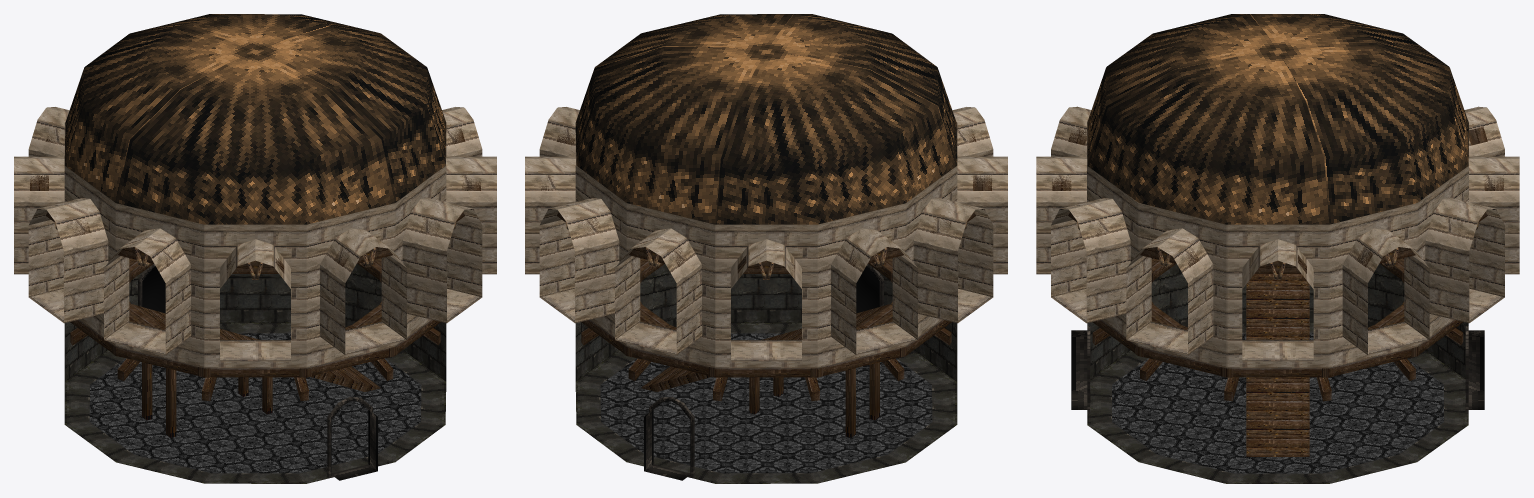
File: clock_tower.fbx
3 views of the same model, side by side, from view 1: azimuth 30°, elevation 25°; view 2: azimuth 150°, elevation 25°; view 3: azimuth 270°, elevation 25° (orthographic).
Parts seen in each view (by area): view 1: Circle, Circle.001, Circle.005, Circle.006, Circle.002, Circle.008, Plane.001, Plane.002, Circle.004, Circle.013, Circle.007, Plane; view 2: Circle, Circle.001, Circle.005, Circle.006, Circle.002, Circle.008, Plane.001, Plane.002, Circle.007, Circle.003, Circle.004, Plane; view 3: Circle, Circle.001, Circle.005, Plane.001, Circle.006, Circle.008, Circle.002, Plane.002, Circle.007, Circle.004, Plane.
Part boxes in pixels (<box>): Circle: <box>64,14,446,224</box>; Circle.001: <box>14,107,496,368</box>; Circle.005: <box>89,333,421,473</box>; Circle.006: <box>64,322,446,483</box>; Circle.002: <box>64,264,446,414</box>; Circle.008: <box>70,216,440,400</box>; Plane.001: <box>131,304,380,437</box>; Plane.002: <box>30,128,480,273</box>; Circle.004: <box>142,266,165,313</box>; Circle.013: <box>327,397,372,478</box>; Circle.007: <box>332,405,377,480</box>; Plane: <box>54,221,456,279</box>; Circle: <box>575,14,957,224</box>; Circle.001: <box>525,107,1007,368</box>; Circle.005: <box>600,333,932,473</box>; Circle.006: <box>575,322,957,483</box>; Circle.002: <box>575,264,957,414</box>; Circle.008: <box>581,216,951,400</box>; Plane.001: <box>641,304,890,437</box>; Plane.002: <box>541,131,991,273</box>; Circle.007: <box>856,266,879,313</box>; Circle.003: <box>649,397,694,478</box>; Circle.004: <box>644,405,689,480</box>; Plane: <box>565,221,967,279</box>; Circle: <box>1087,14,1468,224</box>; Circle.001: <box>1036,106,1519,368</box>; Circle.005: <box>1112,333,1443,473</box>; Plane.001: <box>1246,274,1309,456</box>; Circle.006: <box>1087,322,1468,483</box>; Circle.008: <box>1092,258,1463,401</box>; Circle.002: <box>1087,264,1468,378</box>; Plane.002: <box>1052,127,1503,273</box>; Circle.007: <box>1071,330,1087,409</box>; Circle.004: <box>1468,330,1484,409</box>; Plane: <box>1077,221,1478,279</box>.
Bounding box in the file's own units: 15.2 × 12.2 × 15.2.
Materials: 8 (8 with a texture image).
